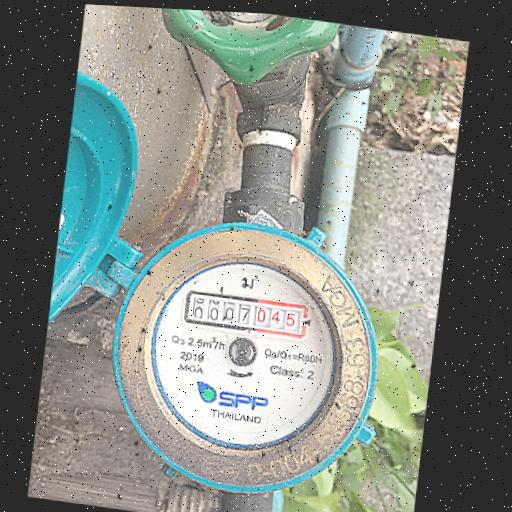0: (221, 302, 235, 324), (191, 298, 205, 319), (254, 307, 268, 328), (208, 300, 220, 322)
4: (269, 309, 283, 330)
5: (284, 311, 298, 332)
7: (238, 304, 250, 326)
border_water_meter_number: (183, 288, 309, 340)
